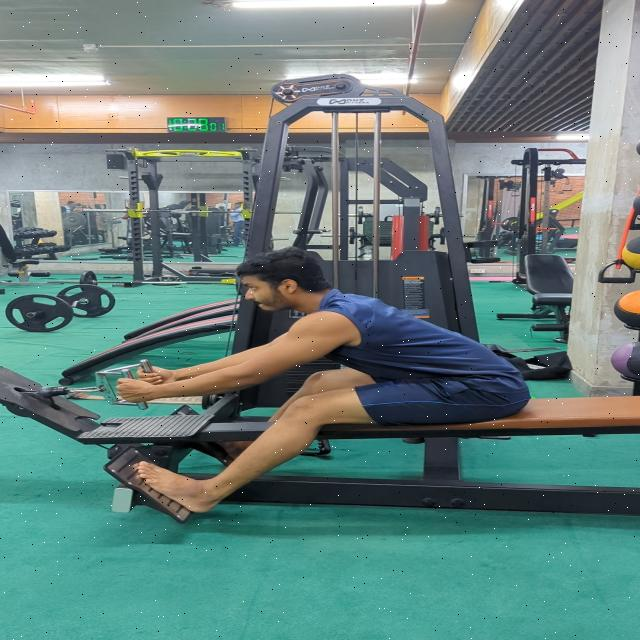Normal_RowingMachineExercise: (110, 247, 534, 515)
